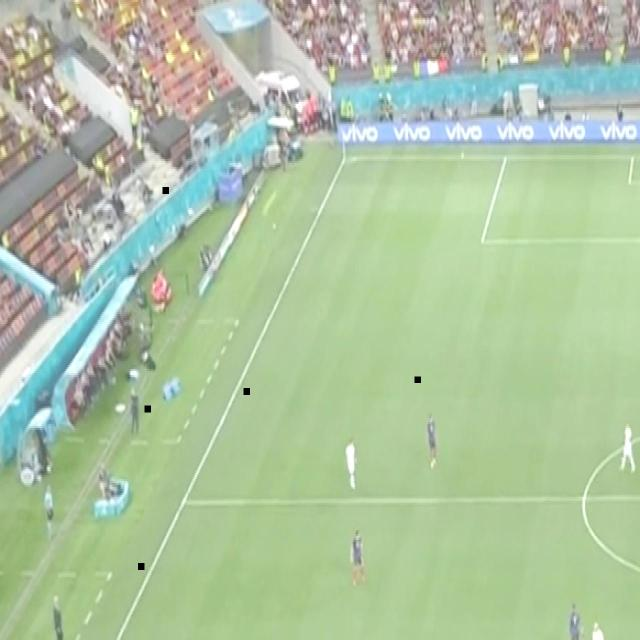player-white: (348, 526, 367, 590), (618, 416, 638, 474), (423, 410, 439, 474), (344, 431, 359, 497), (567, 594, 586, 640), (585, 614, 611, 640)
